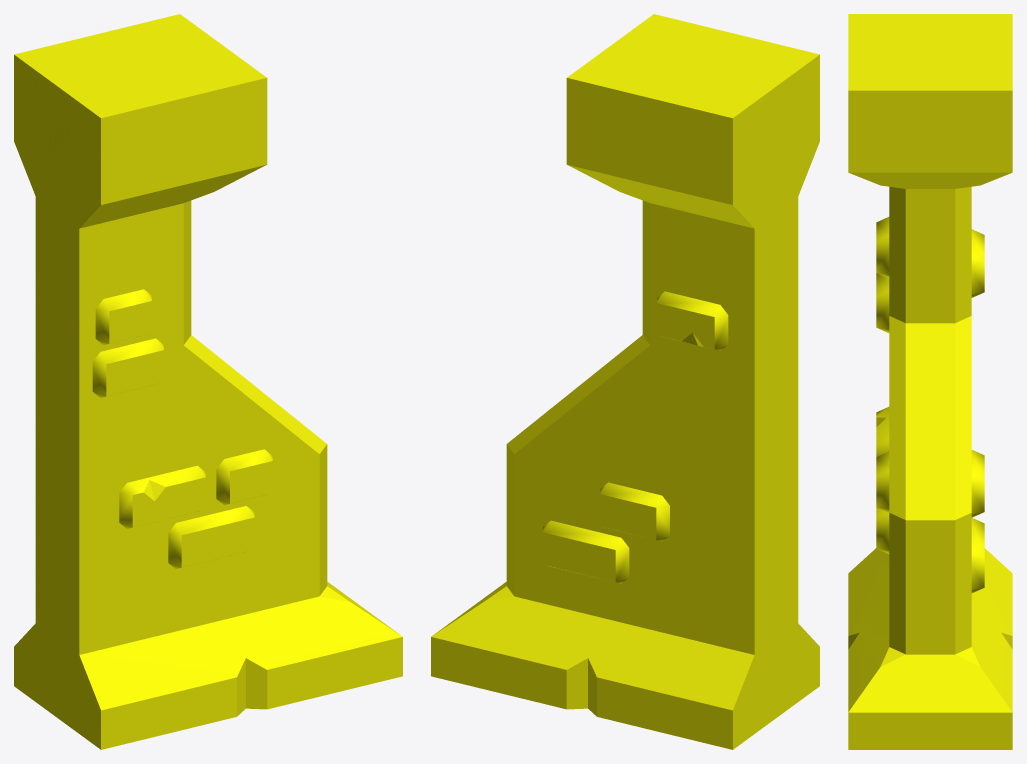
Rendered from kaykit-wall-half-endcap-sloped.glb.
3 renders of one model, left to right at view 1: azimuth 30°, elevation 25°; view 2: azimuth 150°, elevation 25°; view 3: azimuth 270°, elevation 25°, orthographic. The views are drawn at different scales.
Parts seen in each view (by area): view 1: wall_half_endcap_sloped; view 2: wall_half_endcap_sloped; view 3: wall_half_endcap_sloped.
Part boxes in pixels (x1,y1,x2,y2): wall_half_endcap_sloped: (14, 14, 402, 749); wall_half_endcap_sloped: (431, 14, 819, 749); wall_half_endcap_sloped: (848, 14, 1012, 749).
Size of the model in its own units: 2 by 4 by 1.
